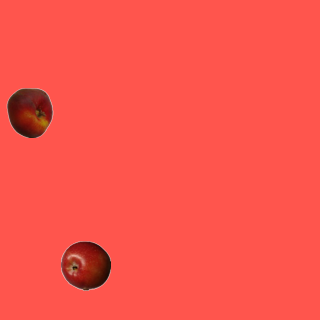Apple Braeburn: (60, 240, 110, 290)
Nectarine Flat: (4, 87, 54, 137)
